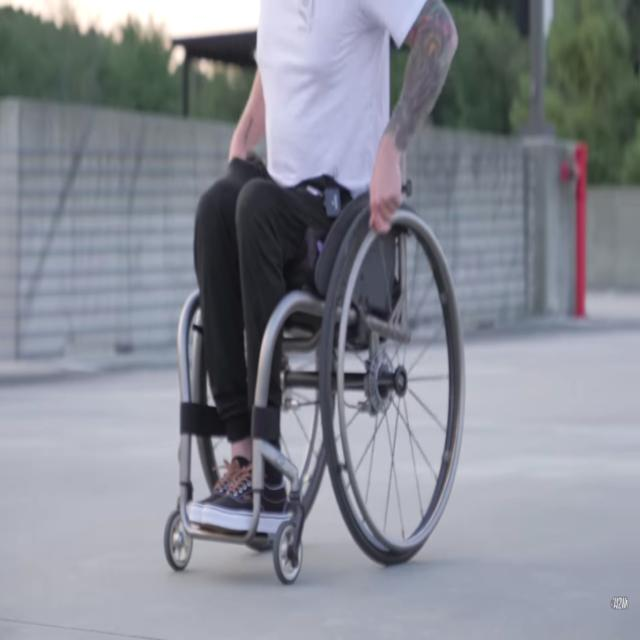wheelchairs: (156, 144, 470, 574)
